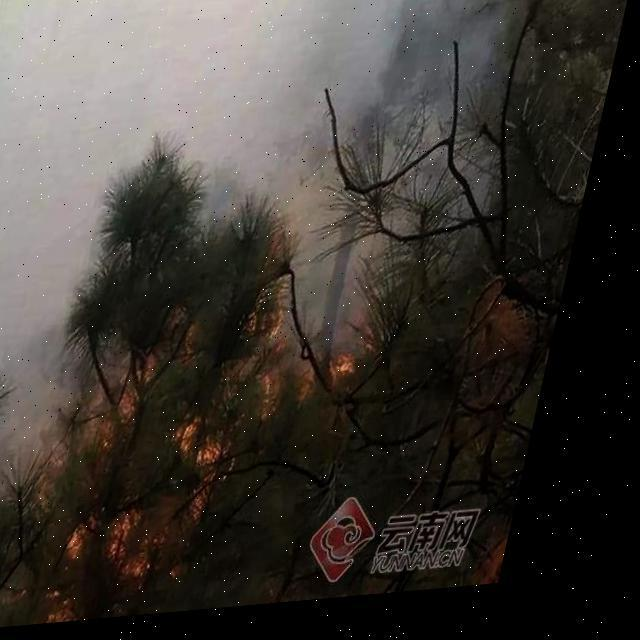Fire: (46, 284, 386, 614)
